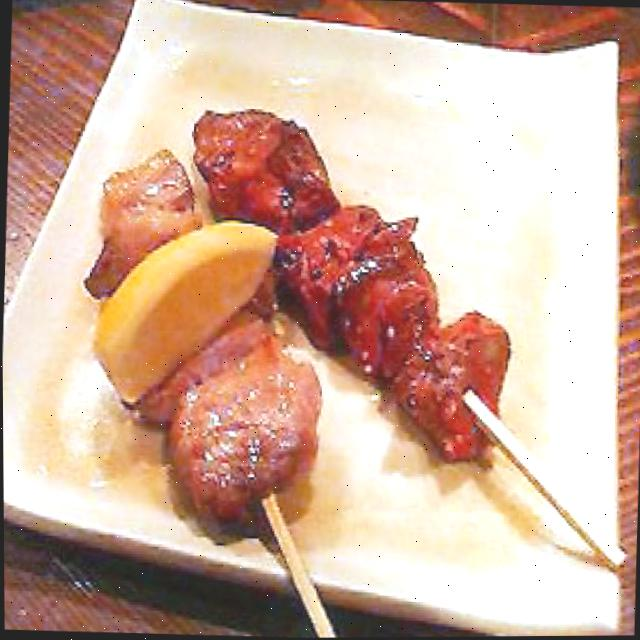烧串烤肉: (72, 89, 640, 640)
